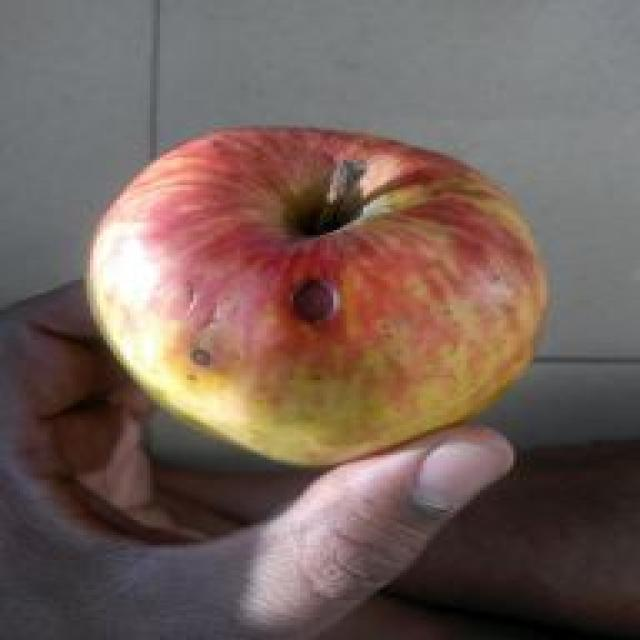Bad_Apple: (87, 130, 547, 464)
